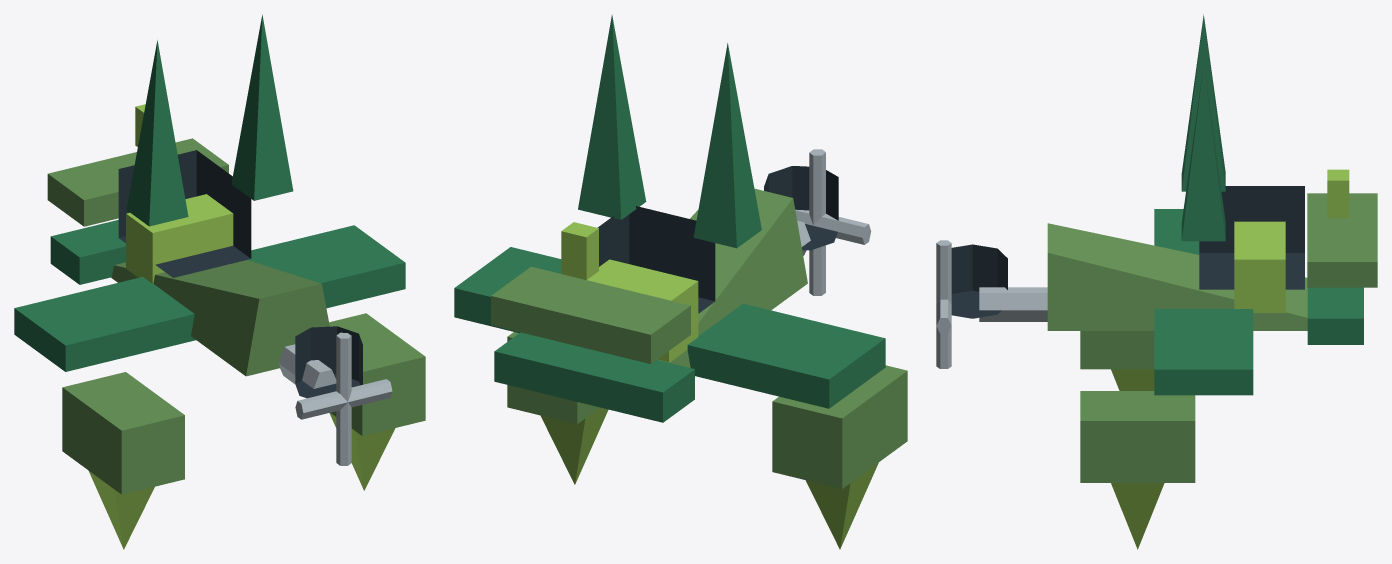
The model's file is bomber.obj.
3 renders of one model, left to right at view 1: azimuth 30°, elevation 25°; view 2: azimuth 150°, elevation 25°; view 3: azimuth 270°, elevation 25°, orthographic. The views are drawn at different scales.
Parts seen in each view (by area): view 1: air; view 2: air; view 3: air.
Boxes of the visible parts, <box> form: air: <box>14,14,425,549</box>; air: <box>454,14,907,549</box>; air: <box>936,14,1377,549</box>.
Bounding box in the file's own units: 1.56 × 2.05 × 1.8.
